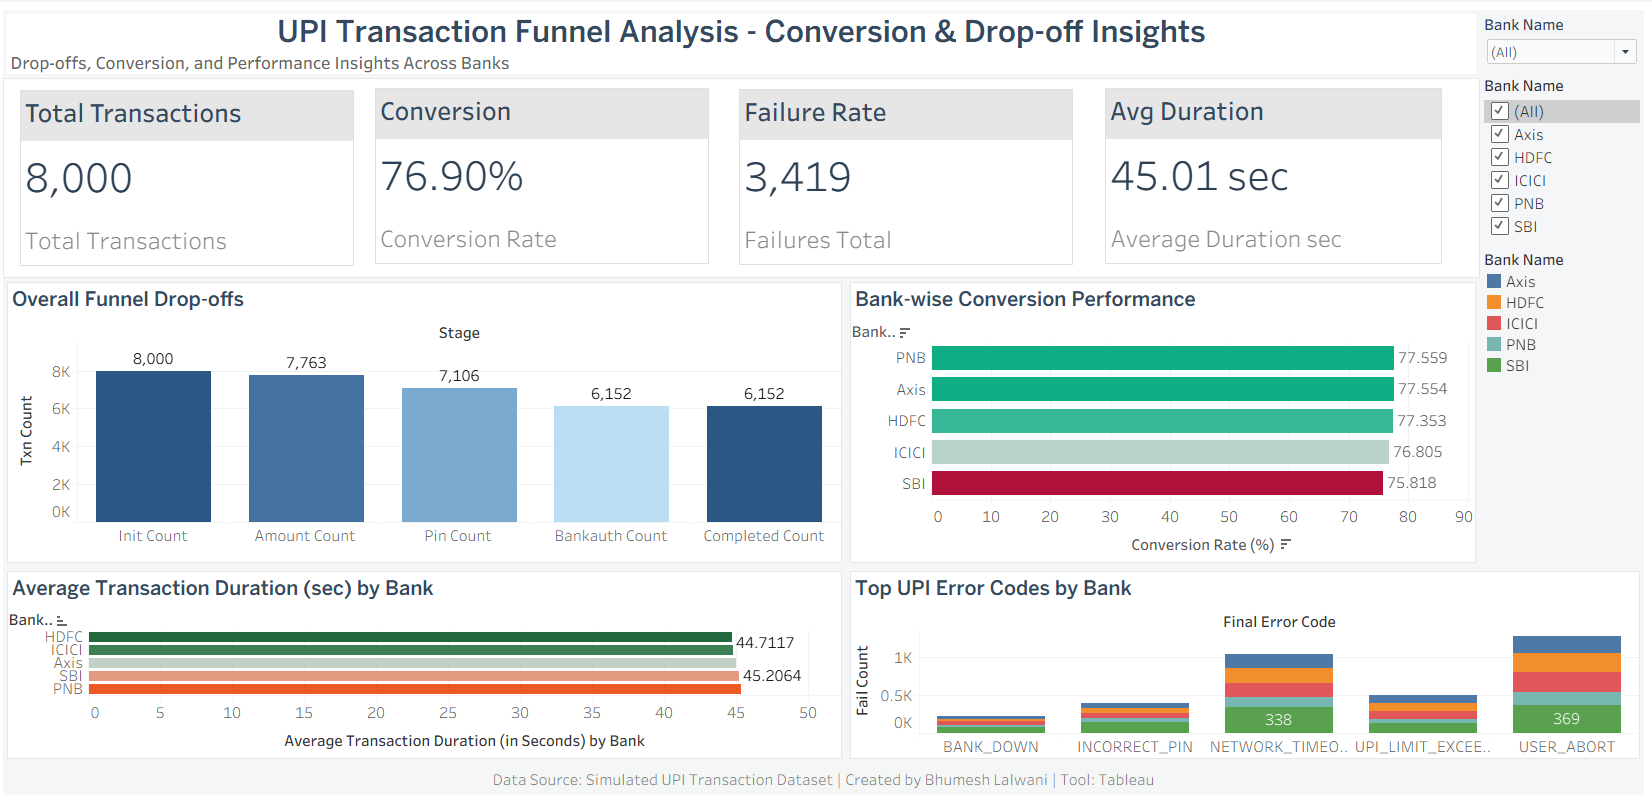

The dashboard page shown, as its layout file describes it:
{"tool":"tableau","page":{"name":"UPI Funnel Dashboard","canvas":[1000,1000],"units":"permille","ordinal":0},"visuals":[{"type":"title","box":[4.8,10,891.4,84.9]},{"type":"filter","title":"KPI - Failure Rate","param":"[federated.0qcml4808kq4lw1amc4r70mxqq06].[none:bank_name:nk]","box":[896.2,10,99,76.2]},{"type":"filter","title":"Funnel Overview","param":"[federated.18kjarp0tc8ltx193ixra0nokwor].[none:bank_name:nk]","box":[896.2,86.2,99,217.2]},{"type":"dashboard-object","param":"[com.tableau.addfilters].[0.0.0].[https://extensions.tableauusercontent.com/sand","box":[4.8,107.4,891.4,249.7]},{"type":"worksheet","title":"KPI - Conversion","mark":"Automatic","box":[229.3,107.4,201.6,219.7]},{"type":"worksheet","title":"KPI - Avg Duration","mark":"Automatic","box":[669.9,107.4,203.4,219.7]},{"type":"worksheet","title":"KPI - Failure Rate","mark":"Automatic","box":[449,108.6,201.6,219.7]},{"type":"worksheet","title":"KPI - Total Txns","mark":"Automatic","box":[15.1,109.9,201.6,219.7]},{"type":"legend","title":"Error Breakdown","param":"[federated.0qcml4808kq4lw1amc4r70mxqq06].[none:bank_name:nk]","box":[896.2,303.4,99,168.5]},{"type":"worksheet","title":"Funnel Overview","mark":"Automatic","rows":["Pivot Field Values"],"cols":["Pivot Field Names"],"box":[4.8,344.6,508.8,360.7]},{"type":"worksheet","title":"Conversion by Bank","mark":"Automatic","rows":["bank_name"],"cols":["Calculation_484981387476459521"],"box":[513.6,344.6,382.6,360.7]},{"type":"worksheet","title":"Avg Duration by Bank","mark":"Automatic","rows":["bank_name"],"cols":["avg_duration_sec"],"box":[4.8,705.4,508.8,244.7]},{"type":"worksheet","title":"Error Breakdown","mark":"Automatic","rows":["fail_count"],"cols":["final_error_code"],"box":[513.6,705.4,481.6,244.7]},{"type":"text","box":[4.8,950.1,990.3,40]}]}

Visuals, with their boxes on the dashboard's canvas, which has no fixed pixel size, in thousandths of its width and height (x1, y1, x2, y2). These are canvas units, not pixel positions in the 1652x800 screenshot, which may show the page scaled, cropped or inside an application window:
title: Rect(5, 10, 896, 95)
"KPI - Failure Rate" filter: Rect(896, 10, 995, 86)
"Funnel Overview" filter: Rect(896, 86, 995, 303)
dashboard-object: Rect(5, 107, 896, 357)
"KPI - Conversion" worksheet: Rect(229, 107, 431, 327)
"KPI - Avg Duration" worksheet: Rect(670, 107, 873, 327)
"KPI - Failure Rate" worksheet: Rect(449, 109, 651, 328)
"KPI - Total Txns" worksheet: Rect(15, 110, 217, 330)
"Error Breakdown" legend: Rect(896, 303, 995, 472)
"Funnel Overview" worksheet: Rect(5, 345, 514, 705)
"Conversion by Bank" worksheet: Rect(514, 345, 896, 705)
"Avg Duration by Bank" worksheet: Rect(5, 705, 514, 950)
"Error Breakdown" worksheet: Rect(514, 705, 995, 950)
text: Rect(5, 950, 995, 990)
